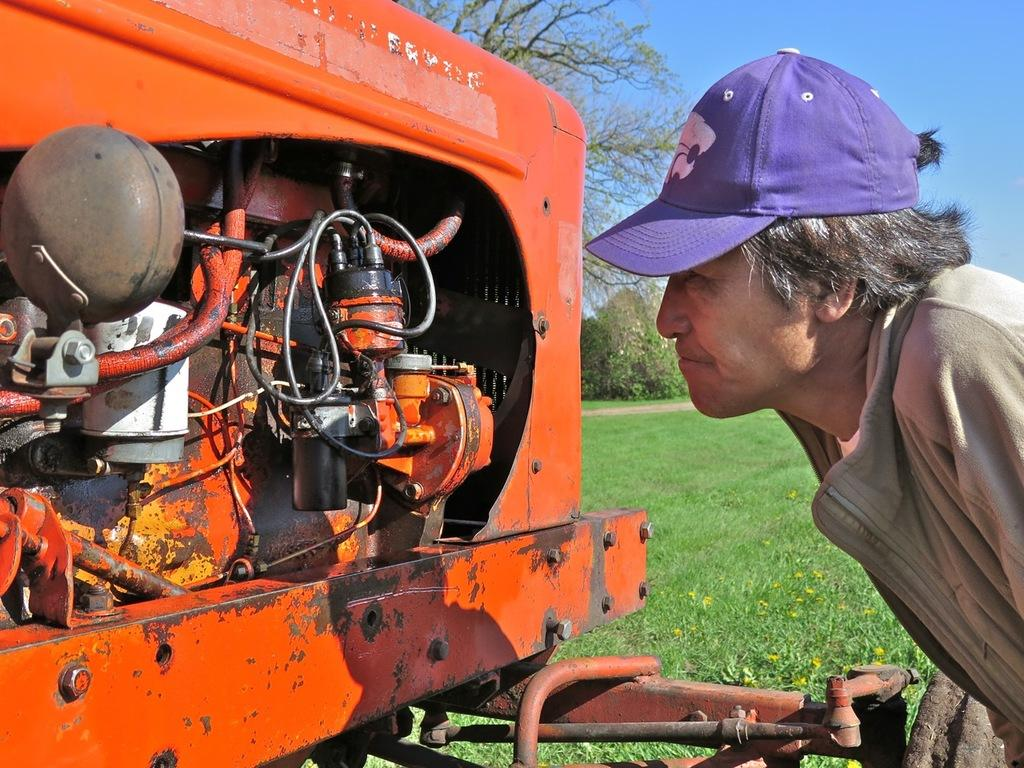Hat: (571, 46, 943, 284)
